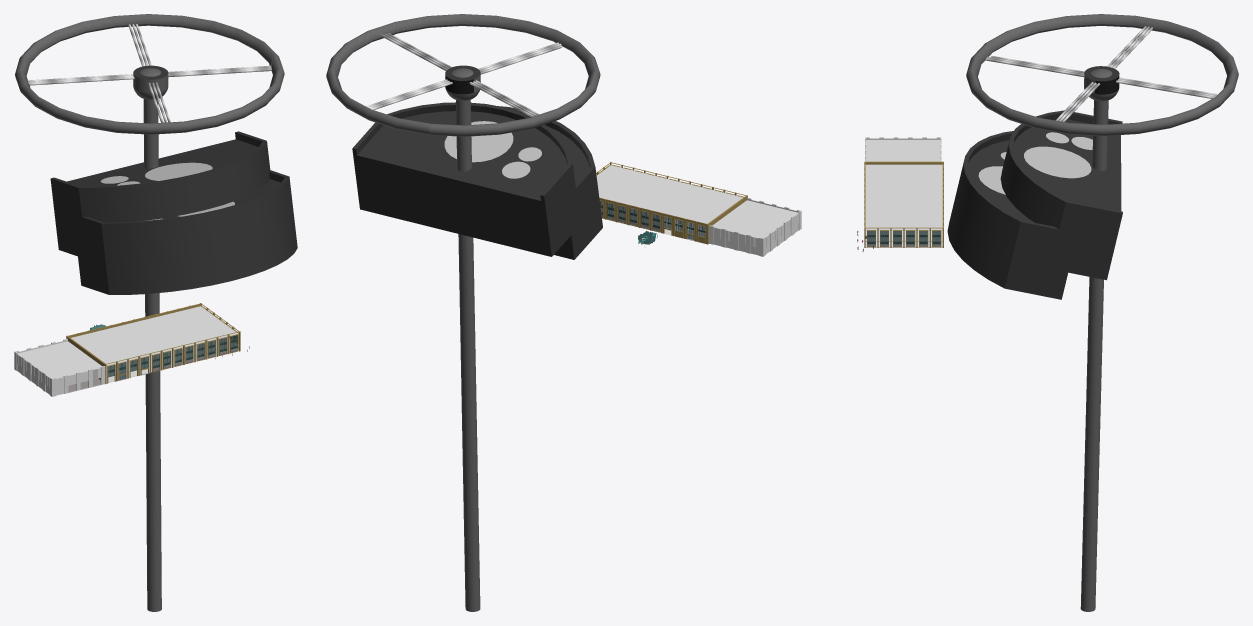
The model's file is buildingsss.glb.
The picture shows the model from 3 angles, left to right: view 1: azimuth 30°, elevation 25°; view 2: azimuth 150°, elevation 25°; view 3: azimuth 270°, elevation 25°; orthographic projection.
Parts seen in each view (by area): view 1: Component#27, Component#26, Component#8, G-Group#411, Component#16, G-Group#455, Component#93, G-Group#410; view 2: Component#8, Component#26, G-Group#411, Component#16, Component#27, G-Group#455, Component#93; view 3: Component#26, Component#8, Component#27, G-Group#411, Component#16, G-Group#455, Component#93, G-Group#410.
Boxes of the visible parts, x1,y1,x2,y2 form: Component#27: (73,170,297,294); Component#26: (15,14,284,611); Component#8: (50,131,270,256); G-Group#411: (71,306,238,366); Component#16: (85,17,160,502); G-Group#455: (18,341,101,378); Component#93: (128,24,170,122); G-Group#410: (106,337,238,377); Component#8: (352,102,580,256); Component#26: (326,14,600,611); G-Group#411: (596,165,742,223); Component#16: (433,42,588,502); Component#27: (498,106,602,259); G-Group#455: (712,200,797,237); Component#93: (366,42,561,110); Component#26: (966,14,1238,611); Component#8: (1000,110,1122,280); Component#27: (947,131,1077,299); G-Group#411: (865,164,942,230); Component#16: (989,32,1229,502); G-Group#455: (866,140,940,161); Component#93: (985,55,1217,98); G-Group#410: (865,230,942,241).
Size of the model in its own units: 178 by 274 by 188.
112 materials, 18 textured.
